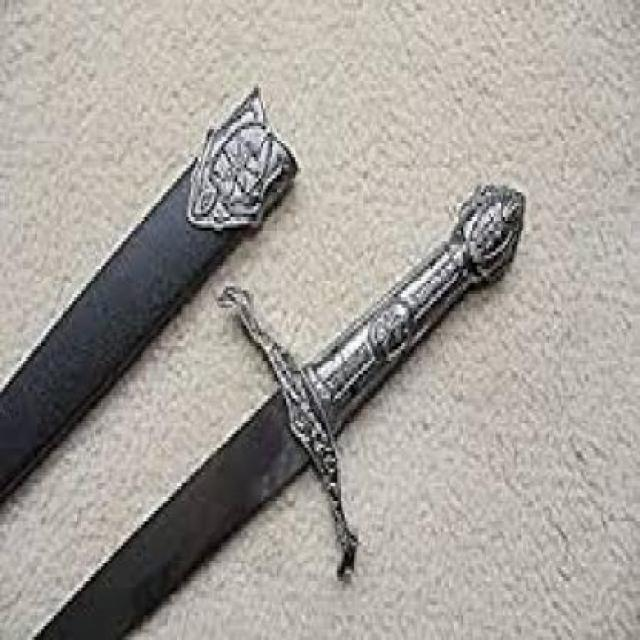weapon: (14, 160, 542, 640)
